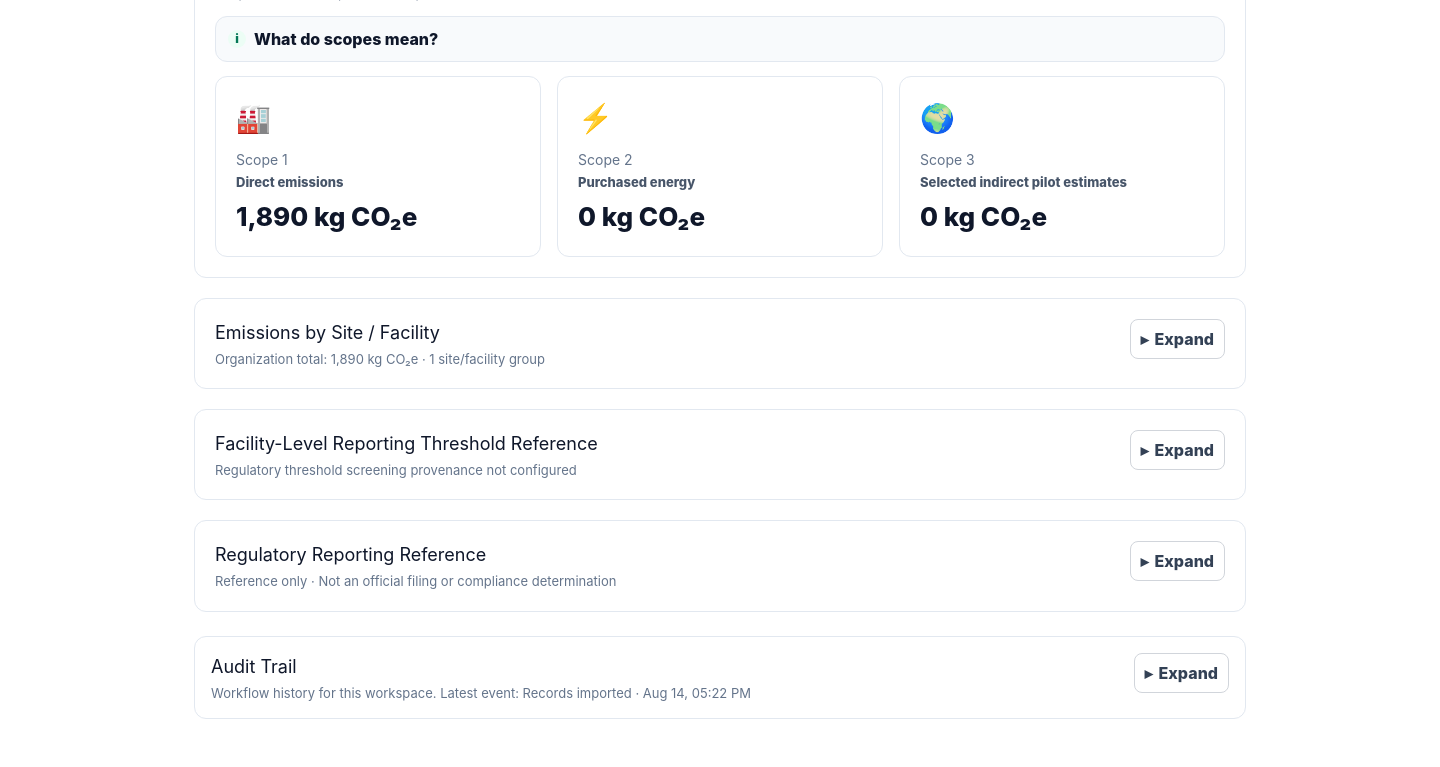
Test: ReportingPage audit trail › keeps workflow audit collapsed and does not log report generated on load
(page scrolled)
Check: the text "Records processed from Golden Test Data" is not shown
Click the button "▸ Expand" in the row of "Audit Trail". click: x=1181, y=673
box: [1134,653,1229,693]
(page scrolled)
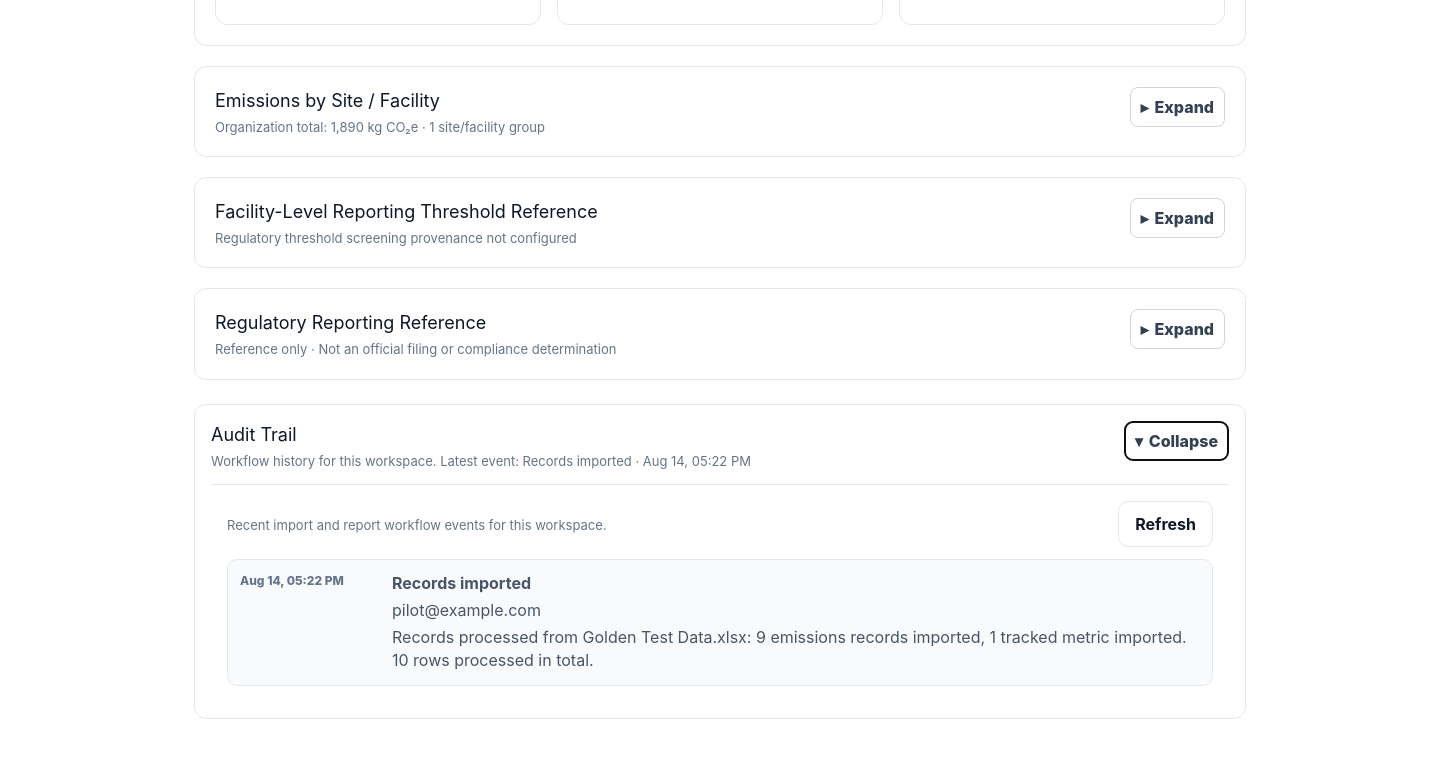
Check: the button "▾ Collapse" is expanded, box [1124,421,1229,461]
Check: the button "▾ Collapse" is shown, box [1124,421,1229,461]
Check: the text "Records imported" is shown, box [392,573,531,593]
